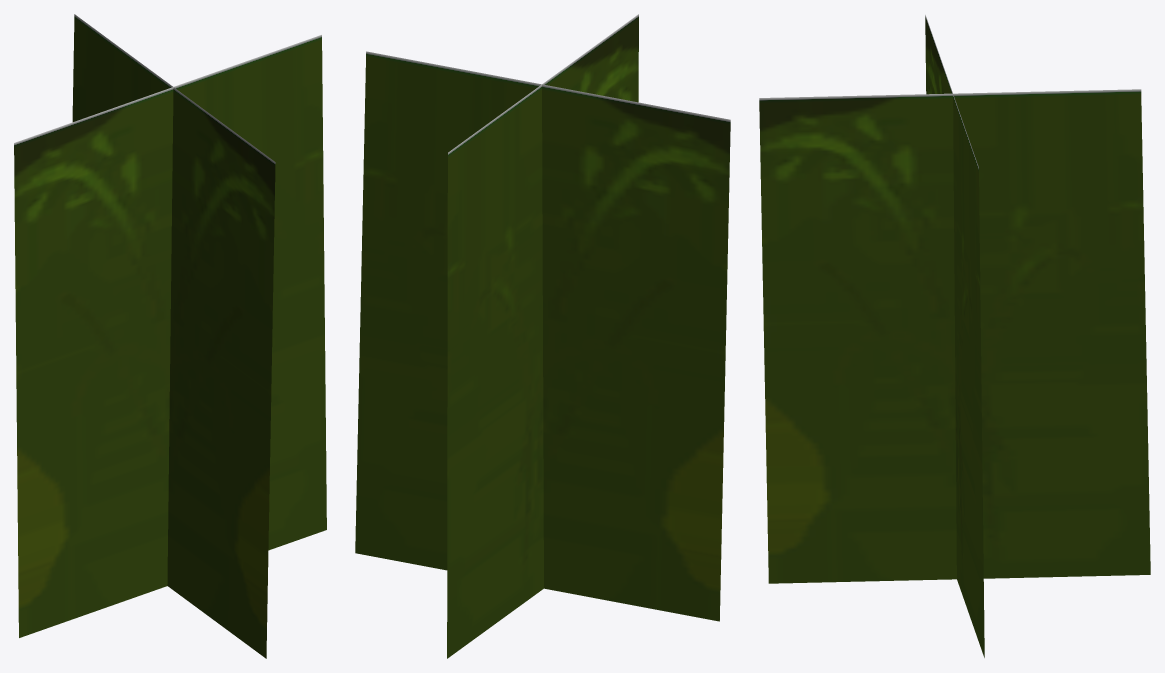
File: KL_cao10.fbx
3 renders of one model, left to right at view 1: azimuth 30°, elevation 25°; view 2: azimuth 150°, elevation 25°; view 3: azimuth 270°, elevation 25°, orthographic. The views are drawn at different scales.
Parts seen in each view (by area): view 1: polySurface1873; view 2: polySurface1873; view 3: polySurface1873.
Part boxes in pixels (bbox=[...]): polySurface1873: bbox=[14, 14, 326, 658]; polySurface1873: bbox=[355, 14, 730, 658]; polySurface1873: bbox=[759, 15, 1150, 657].
Size of the model in its own units: 0.9 by 1.27 by 0.9103.
Materials: 1 (1 with a texture image).
